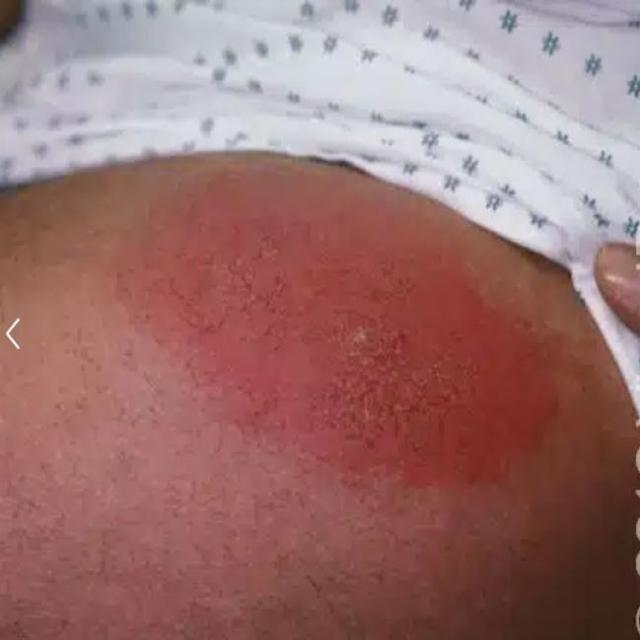Eczema: (108, 207, 584, 504)
